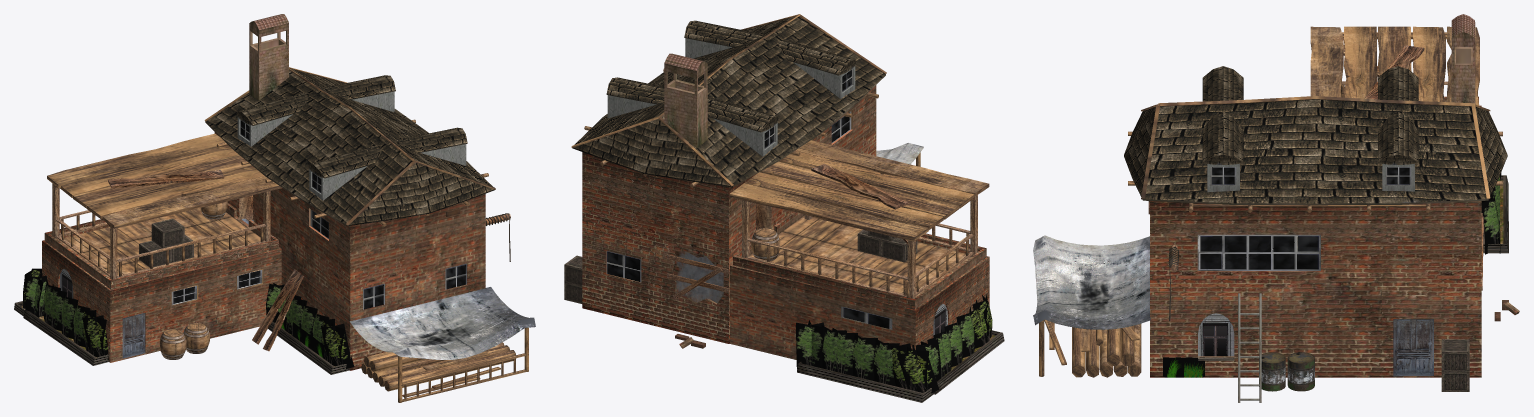
File: new_house.glb
The picture shows the model from 3 angles, left to right: view 1: azimuth 30°, elevation 25°; view 2: azimuth 150°, elevation 25°; view 3: azimuth 270°, elevation 25°; orthographic projection. The views are drawn at different scales.
Parts seen in each view (by area): view 1: Old House 2 3D Models, door 2; view 2: Old House 2 3D Models; view 3: Old House 2 3D Models, door1.
Boxes of the visible parts, x1,y1,x2,y2 form: Old House 2 3D Models: (14,14,535,402); door 2: (122,312,145,358); Old House 2 3D Models: (564,14,1004,402); Old House 2 3D Models: (1033,14,1519,402); door1: (1393,319,1433,376).
Size of the model in its own units: 390 by 252 by 363.
Materials: 3 (3 with a texture image).
